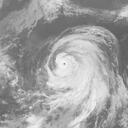cyclone: (45, 34, 96, 90)
